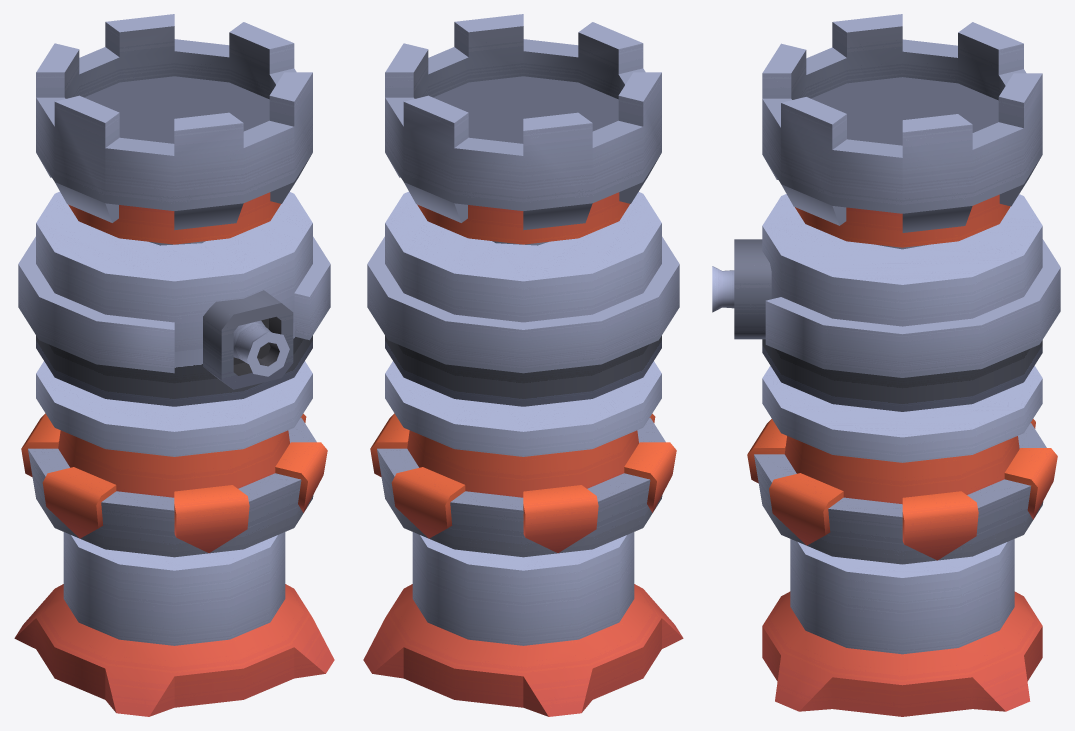
File: archer_3.glb
3 views of the same model, side by side, from view 1: azimuth 30°, elevation 25°; view 2: azimuth 150°, elevation 25°; view 3: azimuth 270°, elevation 25° (orthographic).
Parts seen in each view (by area): view 1: archer_3; view 2: archer_3; view 3: archer_3.
Part boxes in pixels (left/top/right/bottom): archer_3: left=14, top=14, right=334, bottom=716; archer_3: left=363, top=14, right=683, bottom=716; archer_3: left=712, top=14, right=1060, bottom=716.
Size of the model in its own units: 1.13 by 2.3 by 1.24.
Materials: 4 (4 with a texture image).
